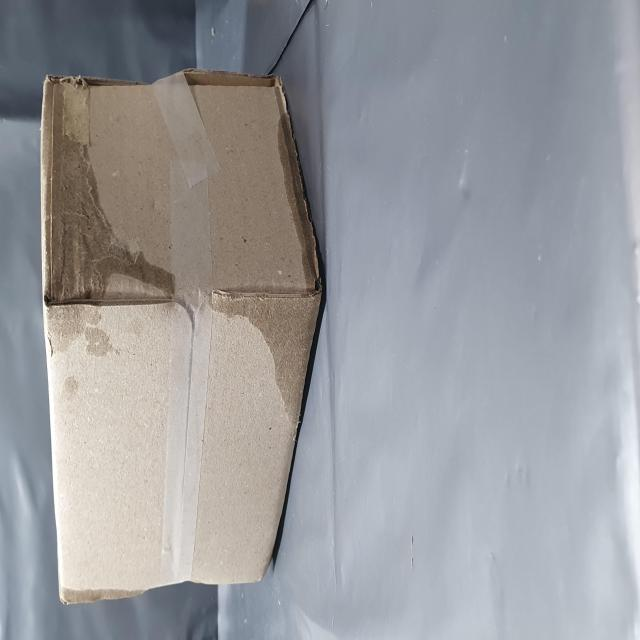wet: (110, 372, 320, 564), (158, 84, 314, 298)
